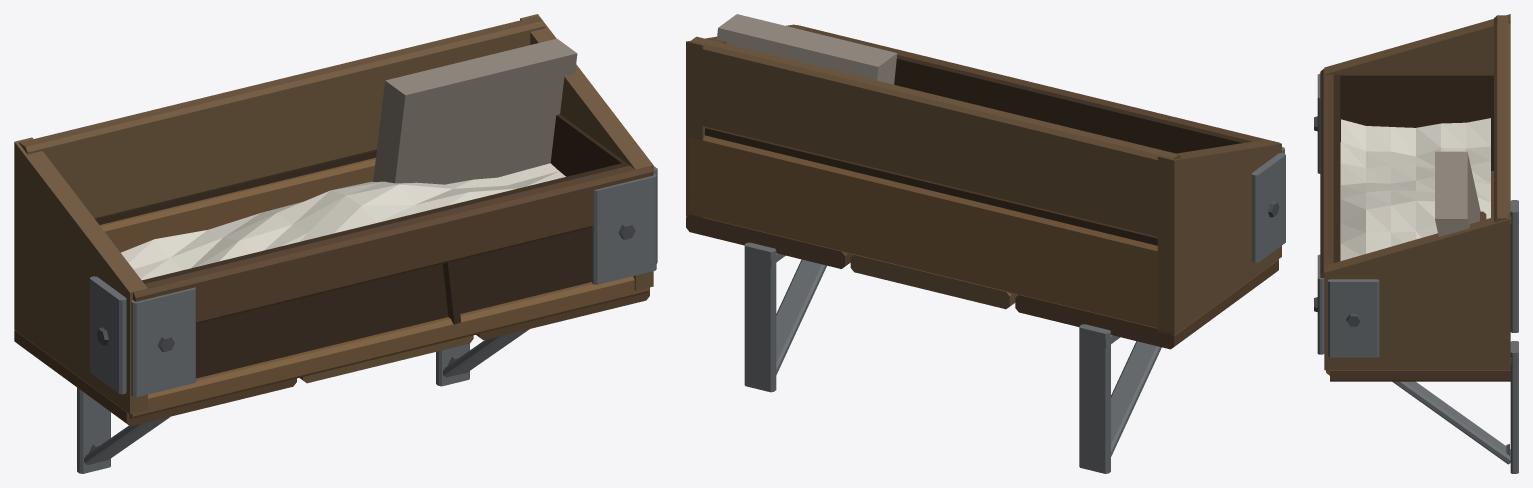
File: SM_LPD_Crate_BinWall_01.fbx
The picture shows the model from 3 angles, left to right: view 1: azimuth 30°, elevation 25°; view 2: azimuth 150°, elevation 25°; view 3: azimuth 270°, elevation 25°; orthographic projection. The views are drawn at different scales.
Parts seen in each view (by area): view 1: SM_LPD_Crate_BinWall_01; view 2: SM_LPD_Crate_BinWall_01; view 3: SM_LPD_Crate_BinWall_01.
Boxes of the visible parts, x1=… form: SM_LPD_Crate_BinWall_01: x1=14, y1=14, x2=657, y2=473; SM_LPD_Crate_BinWall_01: x1=686, y1=14, x2=1285, y2=473; SM_LPD_Crate_BinWall_01: x1=1314, y1=14, x2=1518, y2=473.
Bounding box in the file's own units: 0.73 × 0.446 × 0.295.
